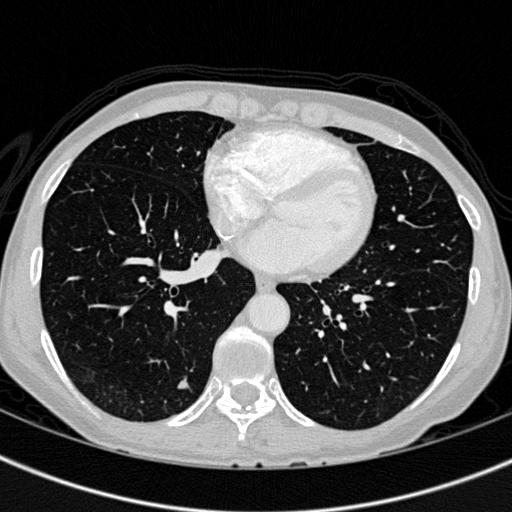nodule: (176, 378, 189, 391)
